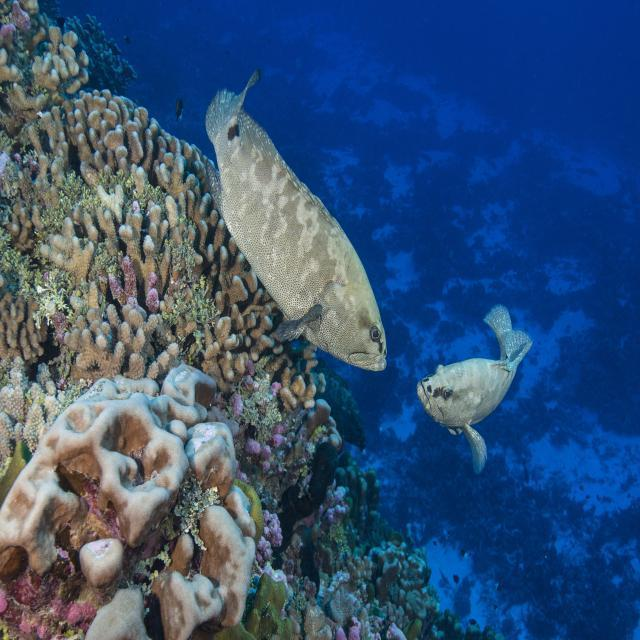Bleached Coral: (3, 358, 218, 624)
Healthy Coral: (1, 0, 218, 373), (216, 270, 276, 415), (246, 425, 298, 483), (278, 358, 329, 415), (266, 514, 287, 564)
